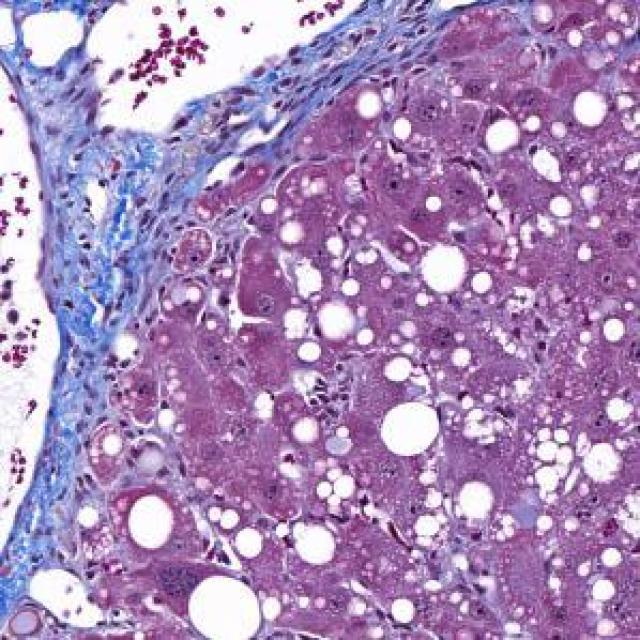fibrosis: (41, 118, 222, 300), (257, 21, 407, 130), (32, 400, 114, 574)
